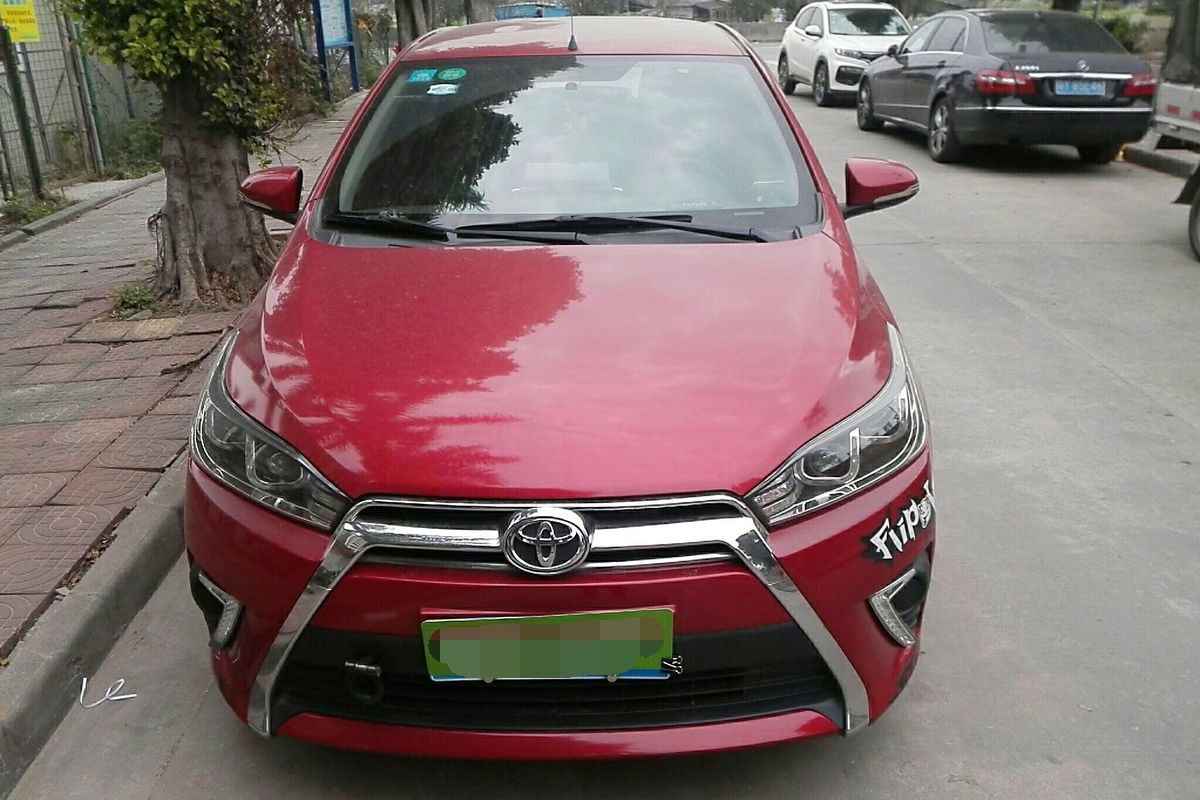family sedan: (177, 25, 999, 766)
